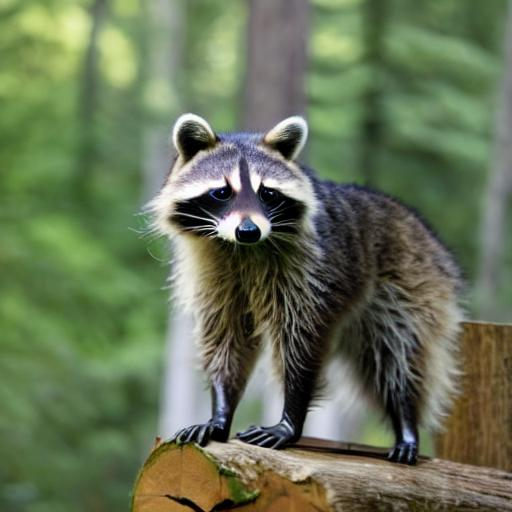raccoon: (129, 98, 478, 406)
